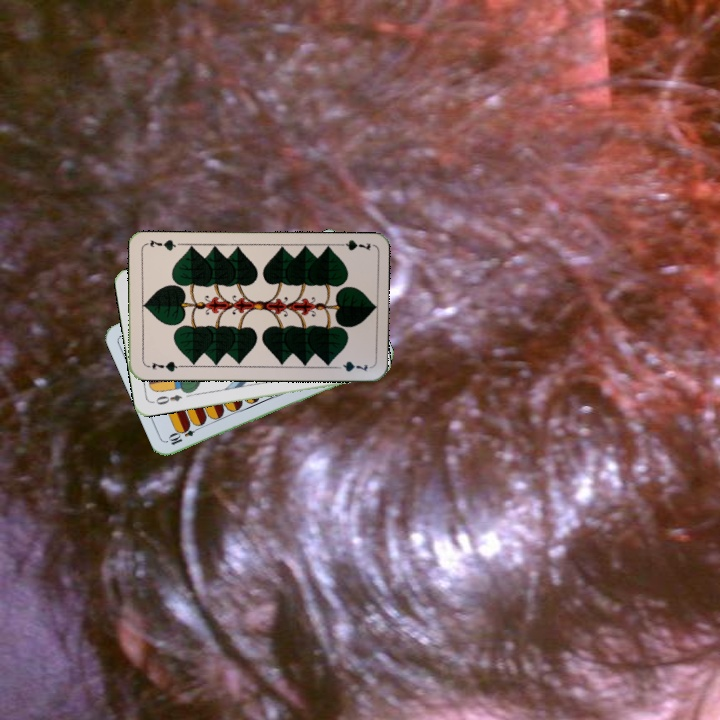E10: (165, 421, 204, 448)
EO: (149, 391, 184, 407)
G7: (332, 236, 373, 253), (143, 357, 183, 374)
